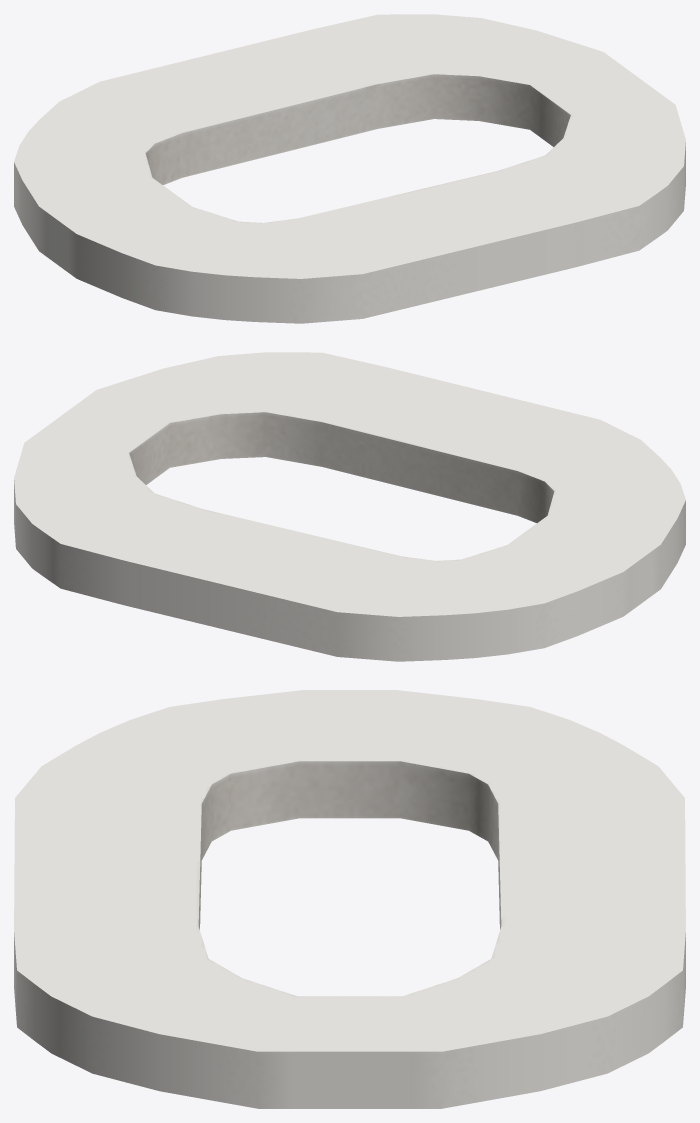
The model's file is 0_Silver.glb.
3 renders of one model, top to bottom at view 1: azimuth 30°, elevation 25°; view 2: azimuth 150°, elevation 25°; view 3: azimuth 270°, elevation 25°, orthographic. The views are drawn at different scales.
Visible parts, largest first — view 1: 0*; view 2: 0*; view 3: 0*.
Part boxes in pixels (left/top/right/bottom): 0*: left=14, top=14, right=685, bottom=323; 0*: left=14, top=352, right=685, bottom=661; 0*: left=14, top=690, right=685, bottom=1108.
Bounding box in the file's own units: 0.5381 × 0.0396 × 0.4225.
1 material, 1 textured.
